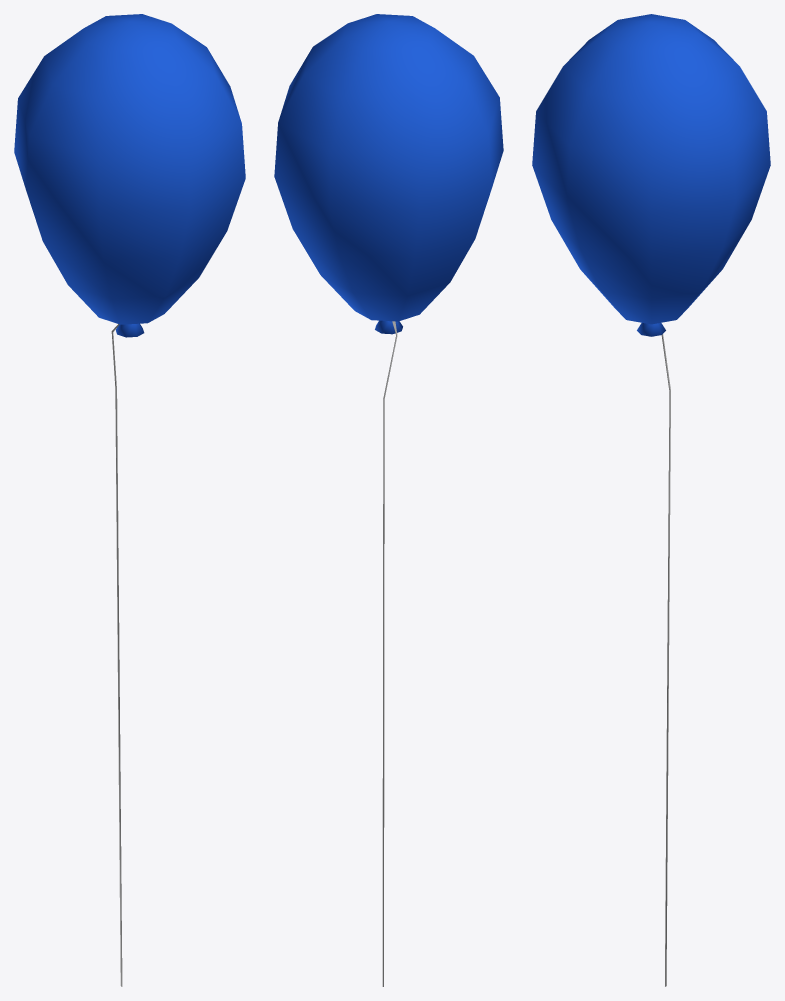
Rendered from BalloonBlue.glb.
3 views of the same model, side by side, from view 1: azimuth 30°, elevation 25°; view 2: azimuth 150°, elevation 25°; view 3: azimuth 270°, elevation 25° (orthographic).
Visible parts, largest first — view 1: BalloonBlue; view 2: BalloonBlue; view 3: BalloonBlue.
Boxes of the visible parts, x1,y1,x2,y2 form: BalloonBlue: (14,14,245,986); BalloonBlue: (274,14,503,986); BalloonBlue: (532,14,770,986).
Bounding box in the file's own units: 0.5007 × 2.23 × 0.5007.
1 material, 1 textured.
